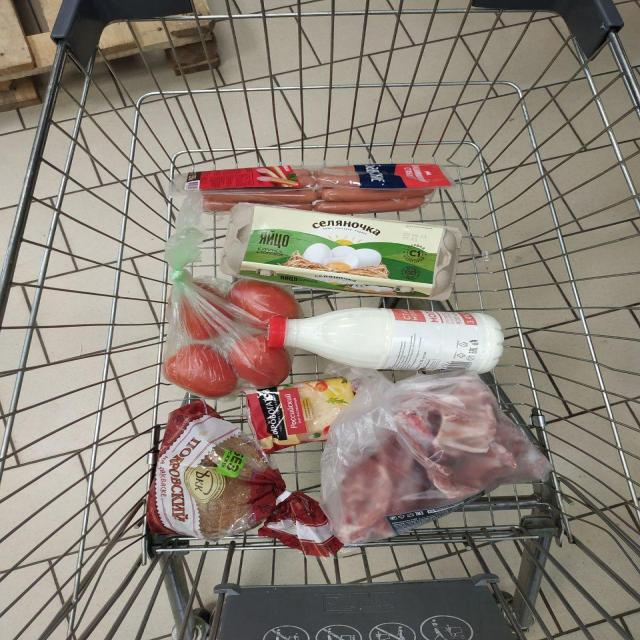Bread: (147, 401, 343, 556)
Cheese: (245, 378, 353, 452)
Eggs: (222, 202, 460, 300)
Meat: (338, 398, 520, 544)
Milk: (268, 308, 503, 372)
Sausages: (313, 164, 452, 214), (170, 165, 318, 211)
Tomatoes: (163, 344, 237, 397), (228, 335, 290, 388), (227, 279, 303, 321), (180, 298, 217, 340)
